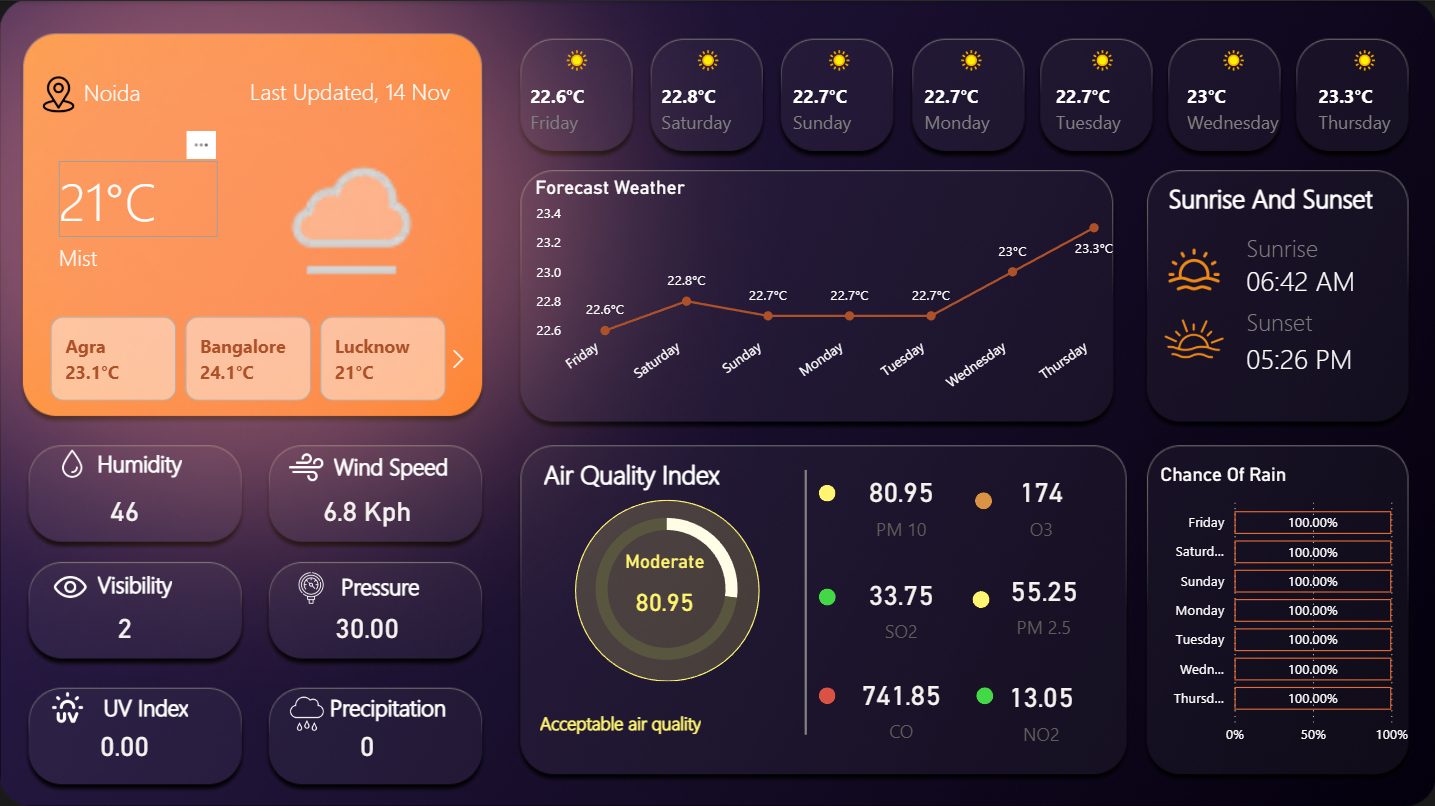

The page's visual inventory and layout, read from the dashboard file:
{"tool":"powerbi","page":{"name":"Page 1","canvas":[1280,720],"ordinal":0},"visuals":[{"type":"donutChart","fields":{"Y":["Sum(current.current.air_quality.pm10)","_Measures.Left_Value_PM10"]},"box":[498.2,439.3,190.2,168.1],"z":0},{"type":"advancedSlicerVisual","fields":{"Values":["Locations.location.name"]},"box":[20.2,275.6,404,85.1],"z":1000},{"type":"shape","box":[51.9,142.2,142.2,68.6],"z":2000},{"type":"shape","box":[51.9,210.8,205.8,35.1],"z":3000},{"type":"shape","box":[75,63.5,103.9,34.6],"z":4000},{"type":"shape","box":[222.2,62,202,34.6],"z":5000},{"type":"image","box":[28.9,62,46.2,41.8],"z":6000},{"type":"shape","box":[86.5,499.9,106.9,37.7],"z":7000},{"type":"shape","box":[86.5,394.6,201.2,34.6],"z":8000},{"type":"shape","box":[297.1,396.2,202.8,34.6],"z":9000},{"type":"shape","box":[303.4,503.1,202.8,34.6],"z":10000},{"type":"shape","box":[92.8,611.6,201.2,34.6],"z":11000},{"type":"shape","box":[294,611.6,202.8,34.6],"z":12000},{"type":"card","fields":{"Values":["_Measures.Wind_Speed"]},"box":[278.3,427.6,97.5,53.5],"z":13000},{"type":"card","fields":{"Values":["Sum(current.current.humidity)"]},"box":[67.6,427.6,86.5,53.5],"z":14000},{"type":"card","fields":{"Values":["Sum(current.current.vis_km)"]},"box":[62.9,540.8,97.5,34.6],"z":15000},{"type":"card","fields":{"Values":["Sum(current.current.pressure_in)"]},"box":[278.3,540.8,97.5,34.6],"z":16000},{"type":"card","fields":{"Values":["Sum(current.current.uv)"]},"box":[62.9,646.1,97.5,34.6],"z":17000},{"type":"card","fields":{"Values":["Sum(current.current.precip_in)"]},"box":[278.3,646.1,97.5,34.6],"z":18000},{"type":"cardVisual","fields":{"Data":["Min(current.current.condition.icon)"]},"box":[207.5,92.8,198.1,165.1],"z":19000},{"type":"image","box":[39.3,499.9,47.2,44],"z":20000},{"type":"image","box":[42.4,394.6,44,36.2],"z":21000},{"type":"image","box":[257.8,503.1,37.7,39.3],"z":22000},{"type":"image","box":[248.4,394.6,48.7,42.4],"z":23000},{"type":"image","box":[39.3,605.3,42.4,47.2],"z":24000},{"type":"image","box":[239,611.6,67.6,47.2],"z":25000},{"type":"advancedSlicerVisual","fields":{"Values":["Forecast_Day.Day_Name"]},"box":[454.5,30.3,825.3,106.8],"z":26000},{"type":"lineChart","title":"Forecast Weather","fields":{"Y":["Sum(Forecast_Day.forecast.forecastday.day.avgtemp_c)"],"Category":["Forecast_Day.Day_Name"]},"box":[472.5,155.4,536.5,205],"z":27000},{"type":"shape","box":[1041.1,158.6,201.8,33.6],"z":28000},{"type":"shape","box":[1109.9,222.6,100.9,52.9],"z":29000},{"type":"shape","box":[1109.9,291.5,100.9,52.9],"z":30000},{"type":"shape","box":[1109.9,257.9,100.9,52.9],"z":31000},{"type":"shape","box":[1109.9,192.2,100.9,52.9],"z":32000},{"type":"image","box":[1028.2,211,69.9,55.2],"z":33000},{"type":"image","box":[1028.2,266.3,69.9,69.9],"z":34000},{"type":"hundredPercentStackedBarChart","title":"Chance Of Rain","fields":{"Y":["Sum(Forecast_Day.forecast.forecastday.day.daily_chance_of_rain)","_Measures.Left_value_rain"],"Category":["Forecast_Day.Day_Name"]},"box":[1028.2,411.6,230.6,259.5],"z":35000},{"type":"shape","box":[483.7,403.6,201.8,33.6],"z":36000},{"type":"card","fields":{"Values":["Sum(current.current.air_quality.pm10)"]},"box":[754.6,411.9,96.2,72.6],"z":37000},{"type":"card","fields":{"Values":["Sum(current.current.air_quality.o3)"]},"box":[879.6,411.9,96.2,72.6],"z":38000},{"type":"card","fields":{"Values":["Sum(current.current.air_quality.pm2_5)"]},"box":[881.3,499.7,96.2,72.6],"z":39000},{"type":"card","fields":{"Values":["Sum(current.current.air_quality.so2)"]},"box":[754.6,503.1,96.2,72.6],"z":40000},{"type":"card","fields":{"Values":["Sum(current.current.air_quality.no2)"]},"box":[879.6,594.3,96.2,72.6],"z":41000},{"type":"card","fields":{"Values":["Sum(current.current.air_quality.co)"]},"box":[754.6,592.6,96.2,72.6],"z":42000},{"type":"shape","box":[729.3,430.5,15,15],"z":43000},{"type":"shape","box":[729.3,523.4,15.2,15.2],"z":44000},{"type":"shape","box":[729.3,611.1,15,15],"z":45000},{"type":"shape","box":[867.8,437.3,15.2,15.2],"z":46000},{"type":"shape","box":[866.1,525,15.2,15.2],"z":47000},{"type":"shape","box":[869.4,611.1,15.2,15.2],"z":48000},{"type":"shape","box":[705.7,417,23.6,236.4],"z":49000},{"type":"card","fields":{"Values":["Sum(current.current.air_quality.pm10)"]},"box":[544.8,488.3,95.7,73.6],"z":50000},{"type":"shape","box":[511.7,444.2,164.4,162],"z":51000},{"type":"shape","box":[481,619.6,224.5,44.2],"z":52000}]}

Visuals, with their boxes in screenshot pixels (x1, y1, x2, y2), scaled from the page's 1280x720 canvas onto the 1435x806 screenshot:
donutChart - Sum(current.current.air_quality.pm10) x _Measures.Left_Value_PM10: [left=559, top=492, right=772, bottom=680]
advancedSlicerVisual - Locations.location.name: [left=23, top=309, right=476, bottom=404]
shape: [left=58, top=159, right=218, bottom=236]
shape: [left=58, top=236, right=289, bottom=275]
shape: [left=84, top=71, right=201, bottom=110]
shape: [left=249, top=69, right=476, bottom=108]
image: [left=32, top=69, right=84, bottom=116]
shape: [left=97, top=560, right=217, bottom=602]
shape: [left=97, top=442, right=323, bottom=480]
shape: [left=333, top=444, right=560, bottom=482]
shape: [left=340, top=563, right=567, bottom=602]
shape: [left=104, top=685, right=330, bottom=723]
shape: [left=330, top=685, right=557, bottom=723]
card - _Measures.Wind_Speed: [left=312, top=479, right=421, bottom=539]
card - Sum(current.current.humidity): [left=76, top=479, right=173, bottom=539]
card - Sum(current.current.vis_km): [left=71, top=605, right=180, bottom=644]
card - Sum(current.current.pressure_in): [left=312, top=605, right=421, bottom=644]
card - Sum(current.current.uv): [left=71, top=723, right=180, bottom=762]
card - Sum(current.current.precip_in): [left=312, top=723, right=421, bottom=762]
cardVisual - Min(current.current.condition.icon): [left=233, top=104, right=455, bottom=289]
image: [left=44, top=560, right=97, bottom=609]
image: [left=48, top=442, right=97, bottom=482]
image: [left=289, top=563, right=331, bottom=607]
image: [left=278, top=442, right=333, bottom=489]
image: [left=44, top=678, right=92, bottom=730]
image: [left=268, top=685, right=344, bottom=737]
advancedSlicerVisual - Forecast_Day.Day_Name: [left=510, top=34, right=1434, bottom=153]
"Forecast Weather" lineChart: [left=530, top=174, right=1131, bottom=403]
shape: [left=1167, top=178, right=1393, bottom=215]
shape: [left=1244, top=249, right=1357, bottom=308]
shape: [left=1244, top=326, right=1357, bottom=386]
shape: [left=1244, top=289, right=1357, bottom=348]
shape: [left=1244, top=215, right=1357, bottom=274]
image: [left=1153, top=236, right=1231, bottom=298]
image: [left=1153, top=298, right=1231, bottom=376]
"Chance Of Rain" hundredPercentStackedBarChart: [left=1153, top=461, right=1411, bottom=751]
shape: [left=542, top=452, right=769, bottom=489]
card - Sum(current.current.air_quality.pm10): [left=846, top=461, right=954, bottom=542]
card - Sum(current.current.air_quality.o3): [left=986, top=461, right=1094, bottom=542]
card - Sum(current.current.air_quality.pm2_5): [left=988, top=559, right=1096, bottom=641]
card - Sum(current.current.air_quality.so2): [left=846, top=563, right=954, bottom=644]
card - Sum(current.current.air_quality.no2): [left=986, top=665, right=1094, bottom=747]
card - Sum(current.current.air_quality.co): [left=846, top=663, right=954, bottom=745]
shape: [left=818, top=482, right=834, bottom=499]
shape: [left=818, top=586, right=835, bottom=603]
shape: [left=818, top=684, right=834, bottom=701]
shape: [left=973, top=490, right=990, bottom=507]
shape: [left=971, top=588, right=988, bottom=605]
shape: [left=975, top=684, right=992, bottom=701]
shape: [left=791, top=467, right=818, bottom=731]
card - Sum(current.current.air_quality.pm10): [left=611, top=547, right=718, bottom=629]
shape: [left=574, top=497, right=758, bottom=679]
shape: [left=539, top=694, right=791, bottom=743]
